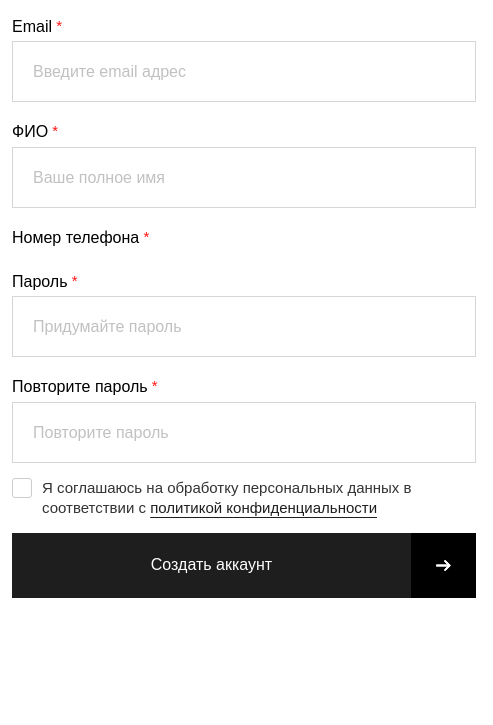
RegistrationForm › Валидация полей › должен показать ошибку для пустого поля ФИО
Click the button with test id "RegistrationForm.submitBtn".
click(244, 565)  # box [12, 533, 476, 598]
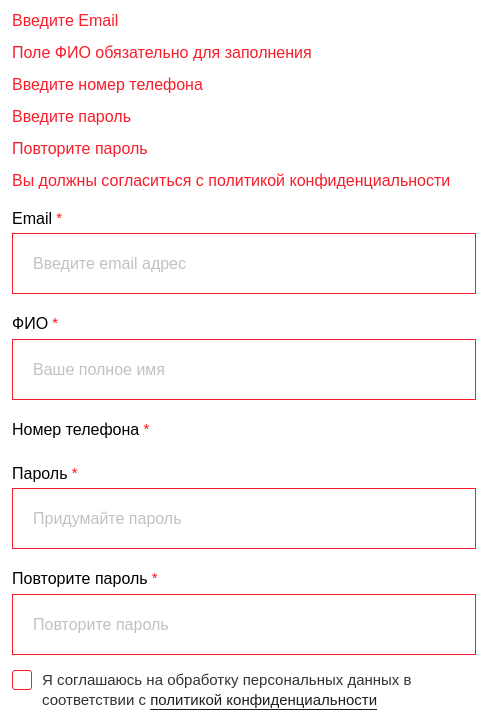
Expected: the text "Поле ФИО обязательно для заполнения" is shown, [12, 44, 312, 61]
